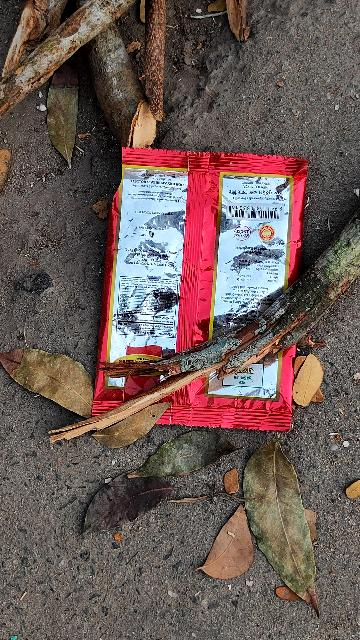packet: (85, 130, 313, 428)
